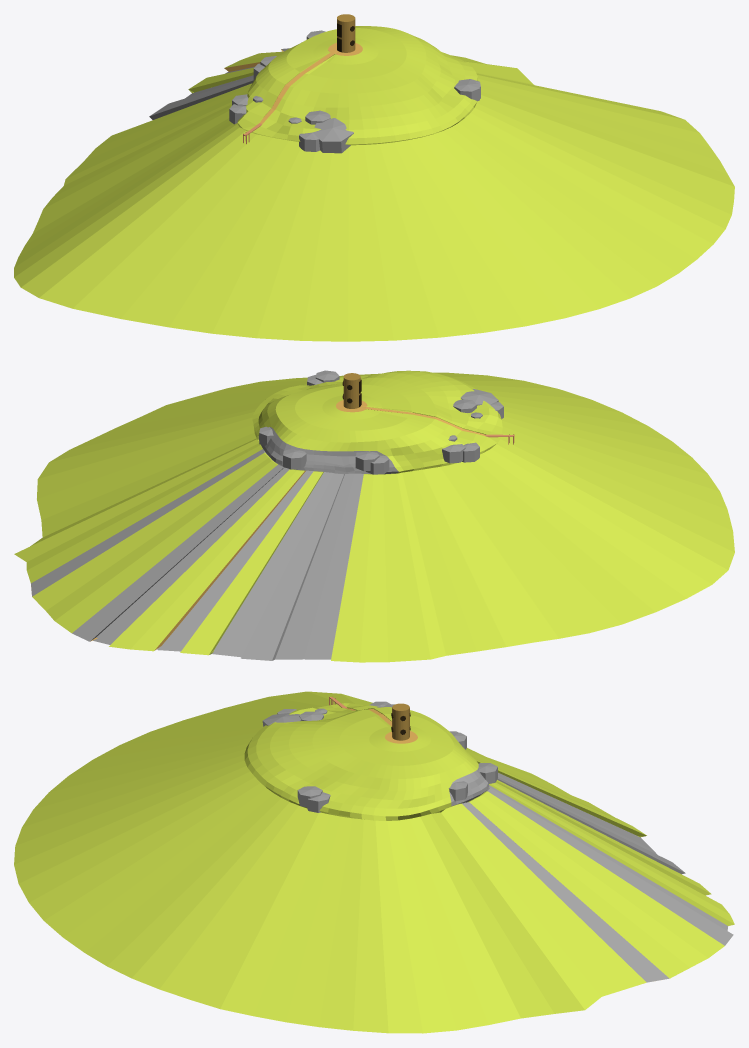
The model's file is inseltuk.gltf.
3 views of the same model, one above another, from view 1: azimuth 30°, elevation 25°; view 2: azimuth 150°, elevation 25°; view 3: azimuth 270°, elevation 25° (orthographic). The views are drawn at different scales.
Parts seen in each view (by area): view 1: Insel; view 2: Insel; view 3: Insel.
Boxes of the visible parts, left/top/right/bottom form: Insel: left=14, top=14, right=734, bottom=341; Insel: left=14, top=370, right=734, bottom=662; Insel: left=14, top=691, right=734, bottom=1033.
Size of the model in its own units: 256 by 68.5 by 242.
